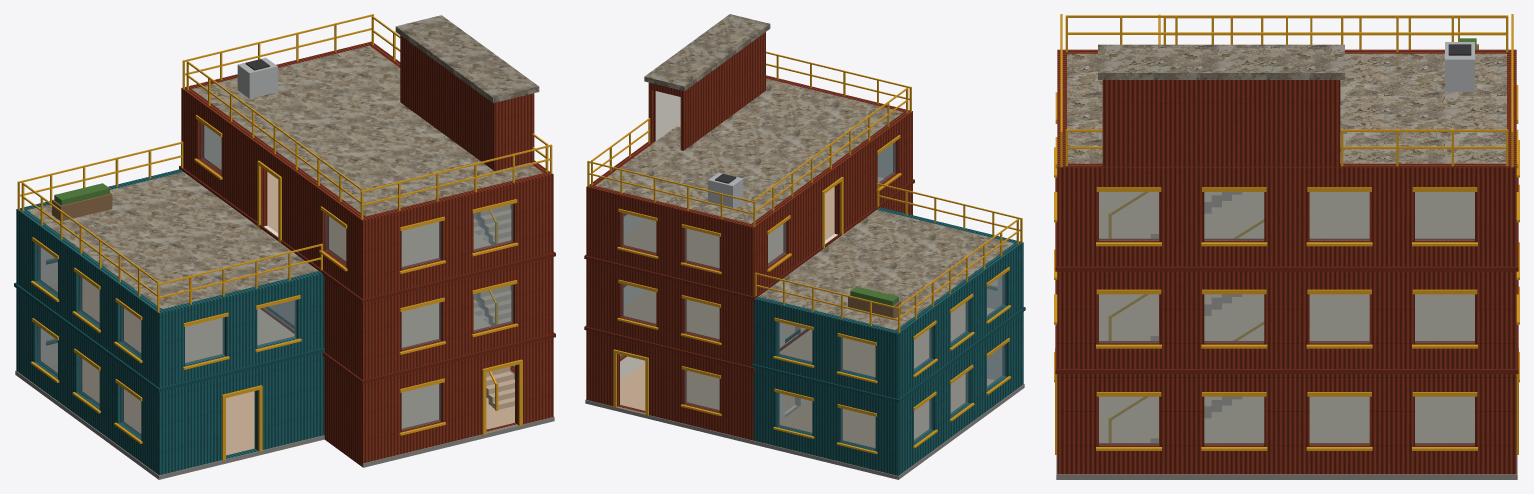
The model's file is mh-container-flats.towns-v1.lod0.glb.
3 views of the same model, side by side, from view 1: azimuth 30°, elevation 25°; view 2: azimuth 150°, elevation 25°; view 3: azimuth 270°, elevation 25° (orthographic). The views are drawn at different scales.
Visible parts, largest first — view 1: mh-container-flats; view 2: mh-container-flats; view 3: mh-container-flats.
Part boxes in pixels (left/top/right/bottom): mh-container-flats: left=14, top=14, right=555, bottom=479; mh-container-flats: left=584, top=14, right=1025, bottom=479; mh-container-flats: left=1054, top=14, right=1519, bottom=479.
Size of the model in its own units: 13.98 by 11.95 by 12.38.
6 materials, 2 textured.
